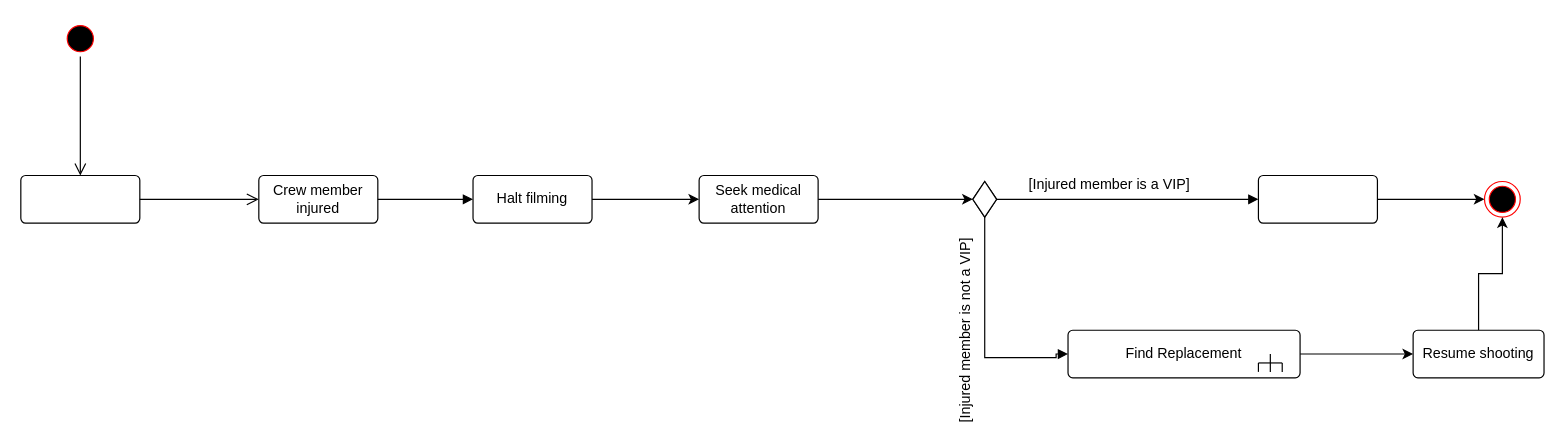
Some shapes in this 1565 by 446 pixel diagram are drawn without their labels. The box of each missing label's shape, as (x1, y1, x2, y2) in pixels:
Cancel shoot: (1257, 174, 1377, 223)
Filming a scene: (20, 174, 140, 223)
